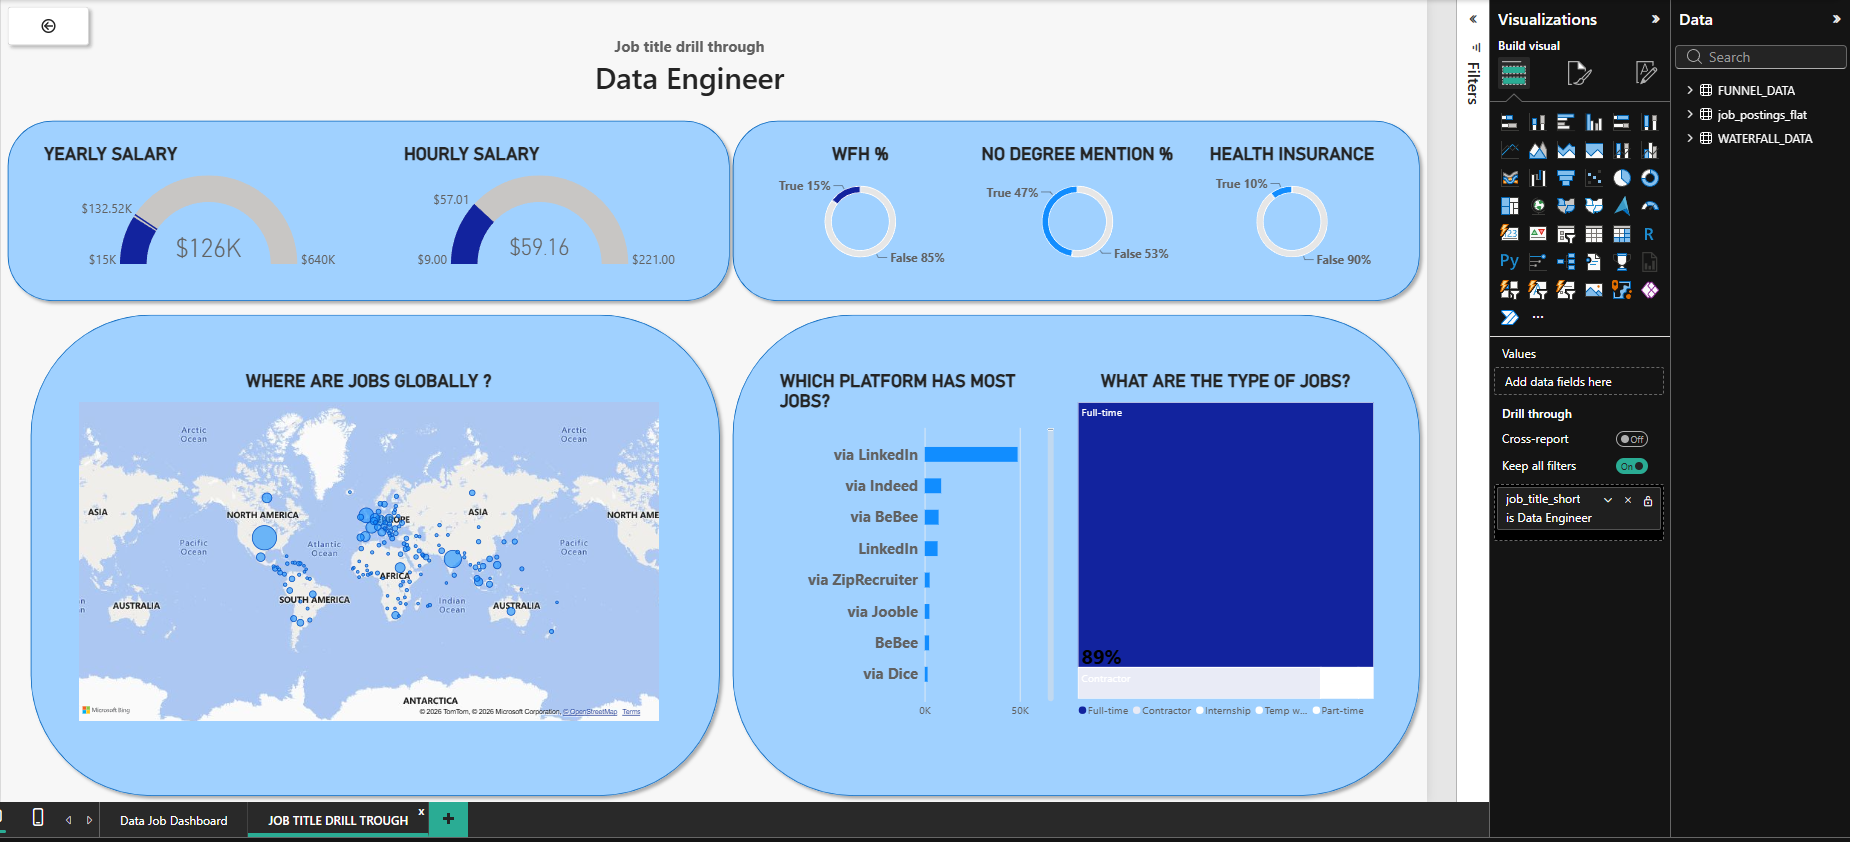

Layout of this report page (visuals, bound fields, positions):
{"tool":"powerbi","page":{"name":"JOB TITLE DRILL TROUGH","canvas":[1920,1080],"ordinal":1},"visuals":[{"type":"group","id":"g1","title":"BACKGROUND","box":[0,153.2,1920,926.8],"z":0},{"type":"cardVisual","fields":{"Data":["Min(job_postings_flat.job_title_short)1"]},"box":[657.1,0,540,180],"z":1000},{"type":"actionButton","box":[0,0,127.1,70],"z":2000},{"type":"gauge","title":" YEARLY SALARY","fields":{"MaxValue":["Max(job_postings_flat.salary_year_avg)"],"MinValue":["Min(job_postings_flat.salary_year_avg)1"],"TargetValue":["Avg(job_postings_flat.salary_year_avg)2"],"Y":["Median(job_postings_flat.salary_year_avg)"]},"box":[41.3,179.8,484.8,197.5],"z":3000},{"type":"gauge","title":"HOURLY SALARY","fields":{"MaxValue":["Max(job_postings_flat.salary_hour_avg)"],"MinValue":["Min(job_postings_flat.salary_hour_avg)"],"TargetValue":["Avg(job_postings_flat.salary_hour_avg)1"],"Y":["Median(job_postings_flat.salary_hour_avg)"]},"box":[526,179.8,415.5,197.5],"z":4000},{"type":"donutChart","title":"WFH %","fields":{"Category":["job_postings_flat.job_work_from_home"],"Y":["CountNonNull(job_postings_flat.job_title_short)"]},"box":[1010.8,179.8,291.8,197.5],"z":5000},{"type":"donutChart","title":"NO DEGREE MENTION %","fields":{"Category":["job_postings_flat.job_no_degree_mention"],"Y":["CountNonNull(job_postings_flat.job_title_short)"]},"box":[1302.6,179.8,294.7,197.5],"z":6000},{"type":"donutChart","title":"HEALTH INSURANCE","fields":{"Category":["job_postings_flat.job_health_insurance"],"Y":["CountNonNull(job_postings_flat.job_title_short)"]},"box":[1597.3,179.8,282.9,197.5],"z":7000},{"type":"map","title":"WHERE ARE JOBS GLOBALLY ?","fields":{"Category":["job_postings_flat.job_country"],"Size":["CountNonNull(job_postings_flat.job_title_short)"]},"box":[88.4,484.8,813.4,502.5],"z":8000},{"type":"treemap","title":"WHAT ARE THE TYPE OF JOBS?","fields":{"Group":["job_postings_flat.job_schedule_type"],"Values":["CountNonNull(job_postings_flat.job_schedule_type)"]},"box":[1433.7,484.8,430.3,502.5],"z":9000},{"type":"barChart","title":"WHICH PLATFORM HAS MOST JOBS?","fields":{"Category":["job_postings_flat.job_via"],"Y":["CountNonNull(job_postings_flat.job_title_short)"]},"box":[1032.9,484.8,400.8,502.5],"z":10000},{"type":"shape","box":[976.9,153.2,943.1,260.8],"z":11000,"group":"g1"},{"type":"shape","box":[30.9,414,946,666],"z":12000,"group":"g1"},{"type":"shape","box":[0,153.2,990.2,260.8],"z":13000,"group":"g1"},{"type":"shape","box":[976.9,414,943.1,666],"z":14000,"group":"g1"}]}

Visuals, with their boxes on the page's 1920x1080 design canvas (x1, y1, x2, y2). These are canvas units, not pixel positions in the 1850x842 screenshot, which may show the page scaled, cropped or inside an application window:
"BACKGROUND" group: bbox(0, 153, 1920, 1080)
cardVisual - Min(job_postings_flat.job_title_short)1: bbox(657, 0, 1197, 180)
actionButton: bbox(0, 0, 127, 70)
" YEARLY SALARY" gauge: bbox(41, 180, 526, 377)
"HOURLY SALARY" gauge: bbox(526, 180, 942, 377)
"WFH %" donutChart: bbox(1011, 180, 1303, 377)
"NO DEGREE MENTION %" donutChart: bbox(1303, 180, 1597, 377)
"HEALTH INSURANCE" donutChart: bbox(1597, 180, 1880, 377)
"WHERE ARE JOBS GLOBALLY ?" map: bbox(88, 485, 902, 987)
"WHAT ARE THE TYPE OF JOBS?" treemap: bbox(1434, 485, 1864, 987)
"WHICH PLATFORM HAS MOST JOBS?" barChart: bbox(1033, 485, 1434, 987)
shape: bbox(977, 153, 1920, 414)
shape: bbox(31, 414, 977, 1080)
shape: bbox(0, 153, 990, 414)
shape: bbox(977, 414, 1920, 1080)
